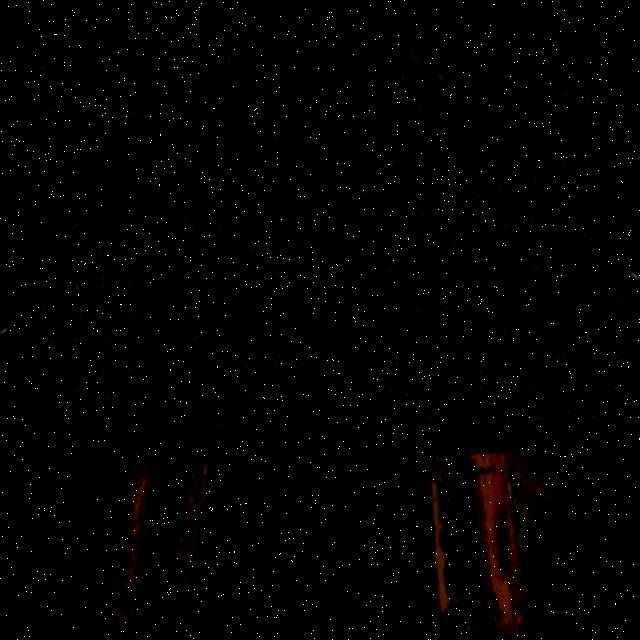Dent: (0, 85, 636, 470)
